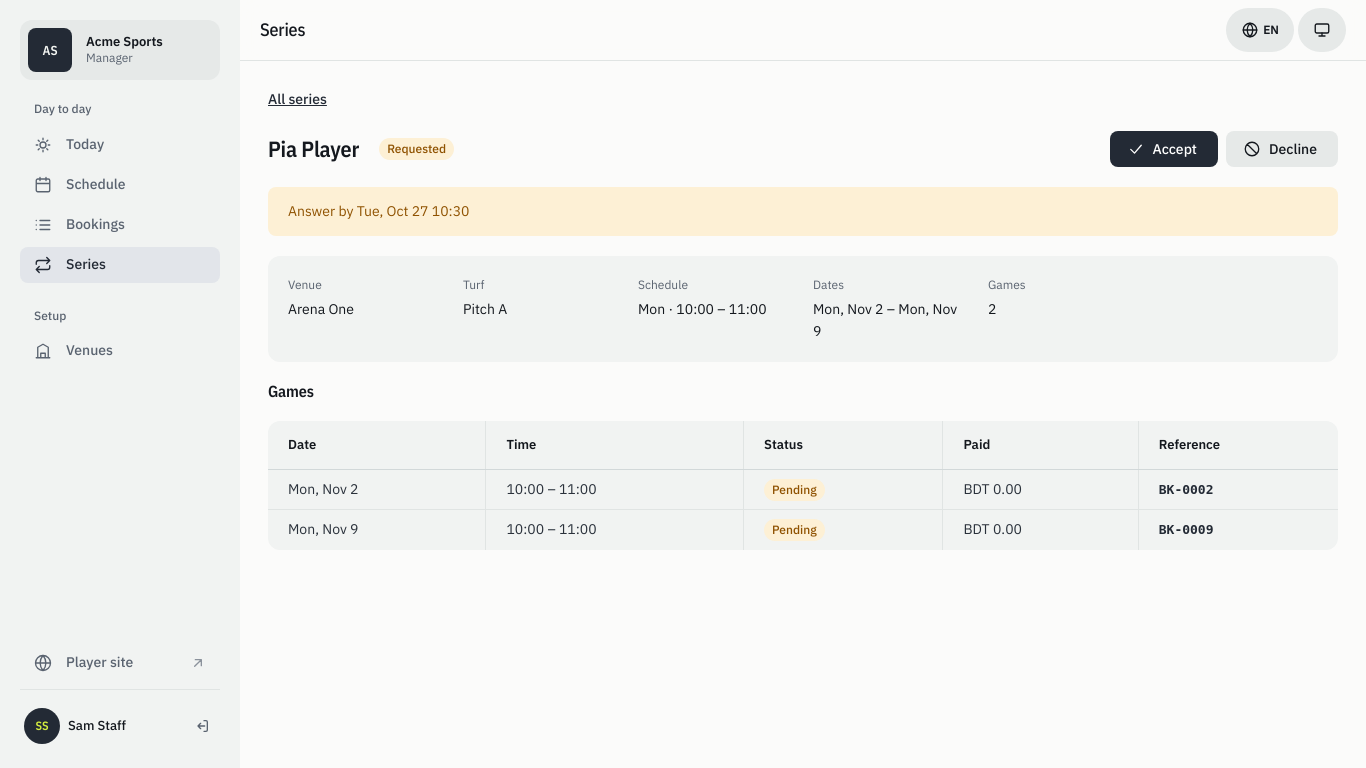
Scenario: Owner series detail › requested series: decline sends the reason
Click the button "Decline" at (1282, 149), box [1226,131,1338,167]
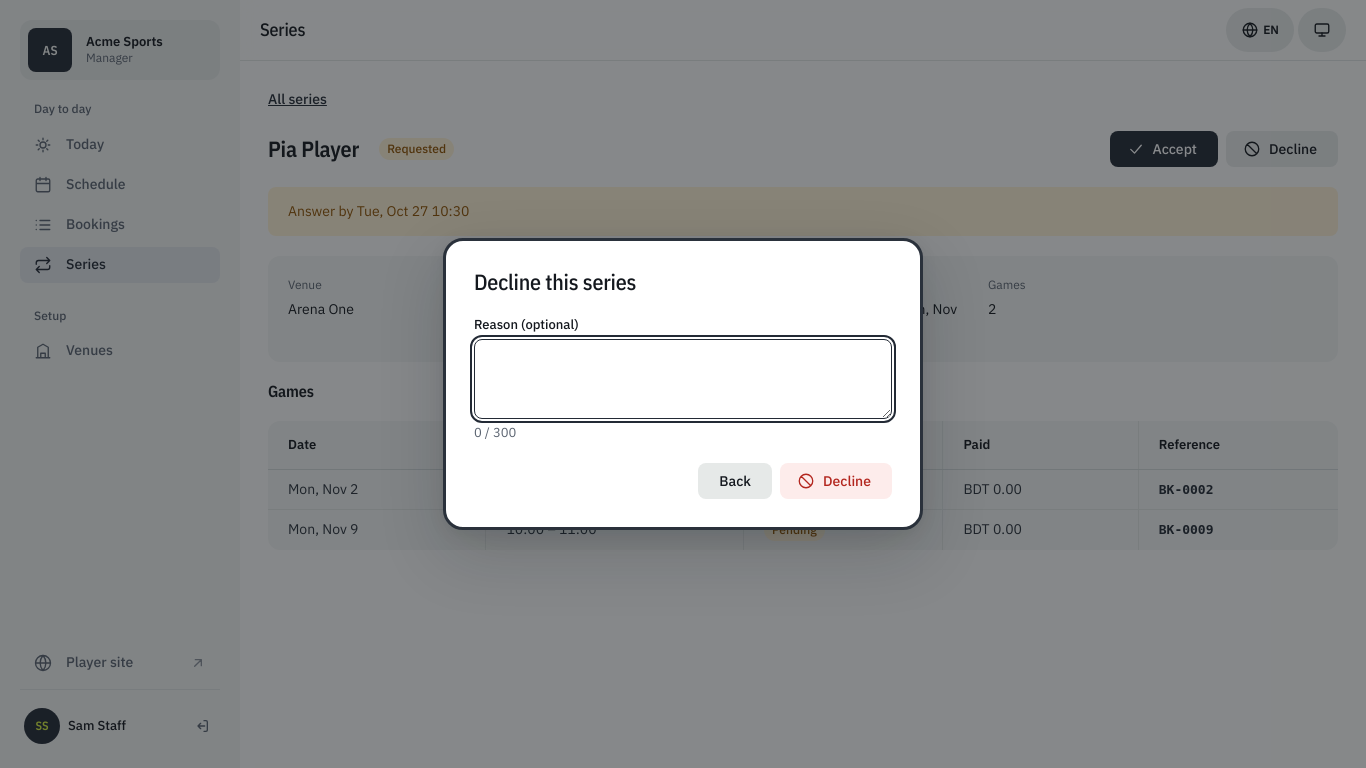
Type "Booked out" into the text box labelled "Reason (optional)" at (683, 379), box [474,339,892,419]
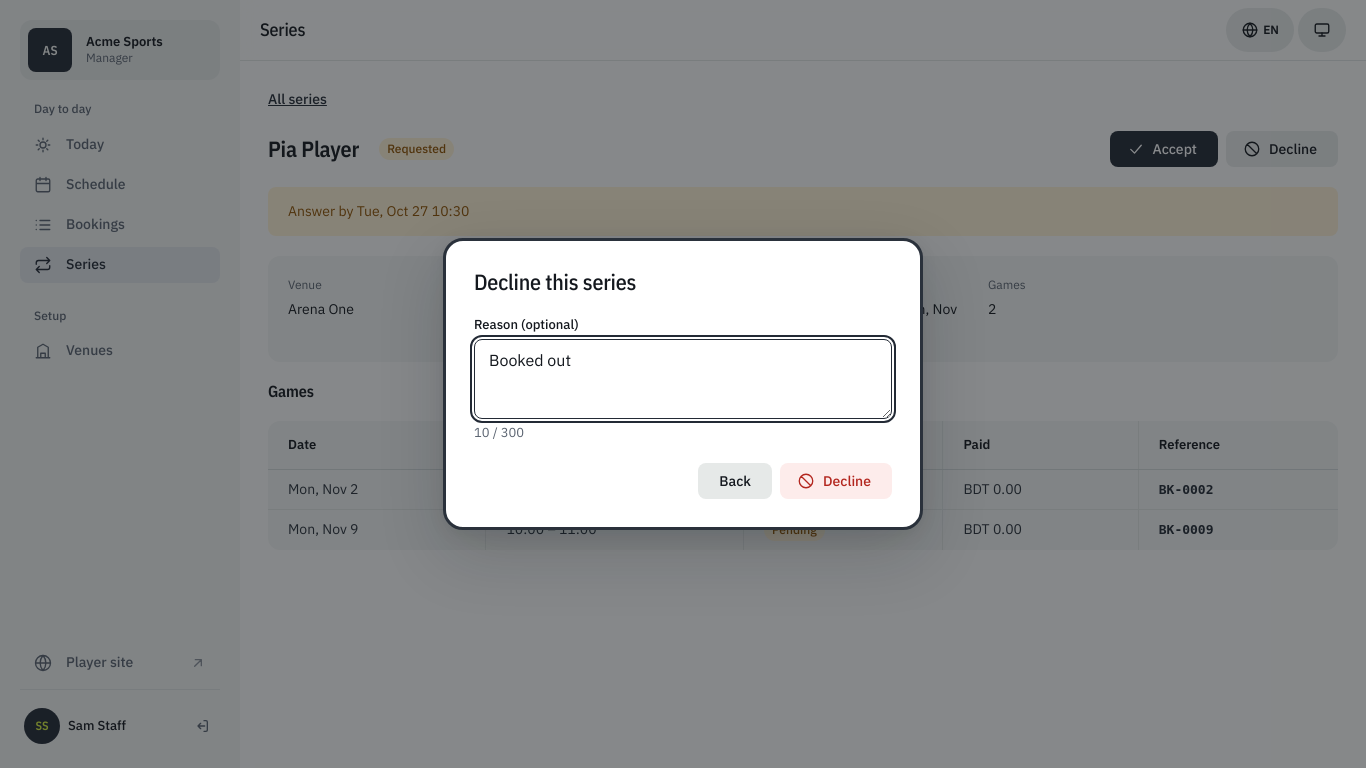
Click the button "Decline" at (836, 481), box [780,463,892,499]
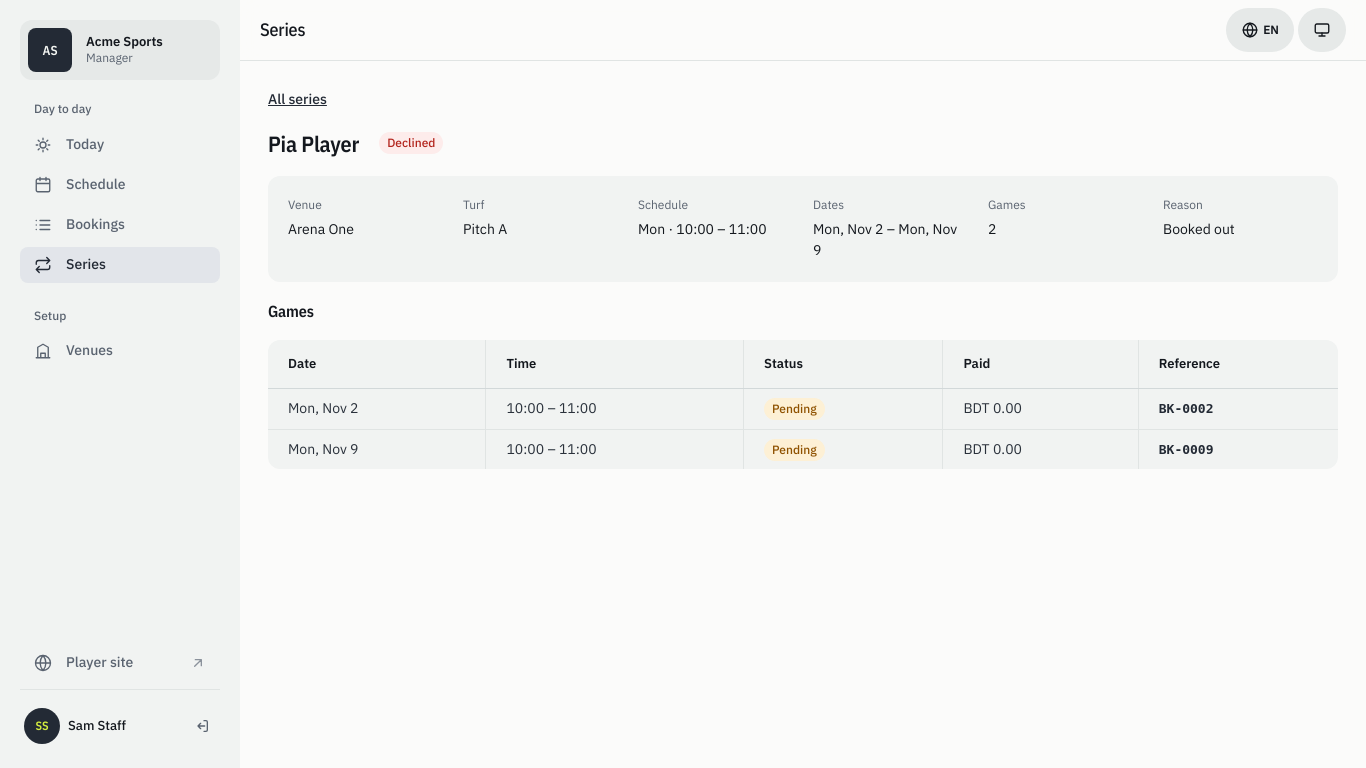
Check: the text "Declined" is shown, box [379,132,443,154]
